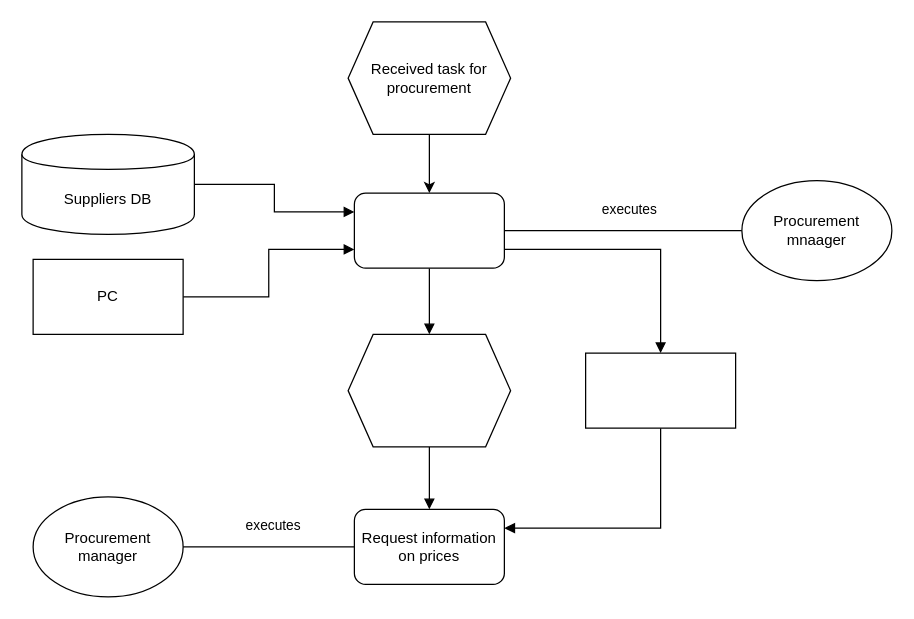
Some shapes in this 914 by 619 pixel diagram are drawn without their labels. Here are the shapes that lost their labels. From the top down, the centre of each, then its label:
point 428,230: Search information on suppliers
point 429,390: Information found
point 660,390: Information about suppliers market
